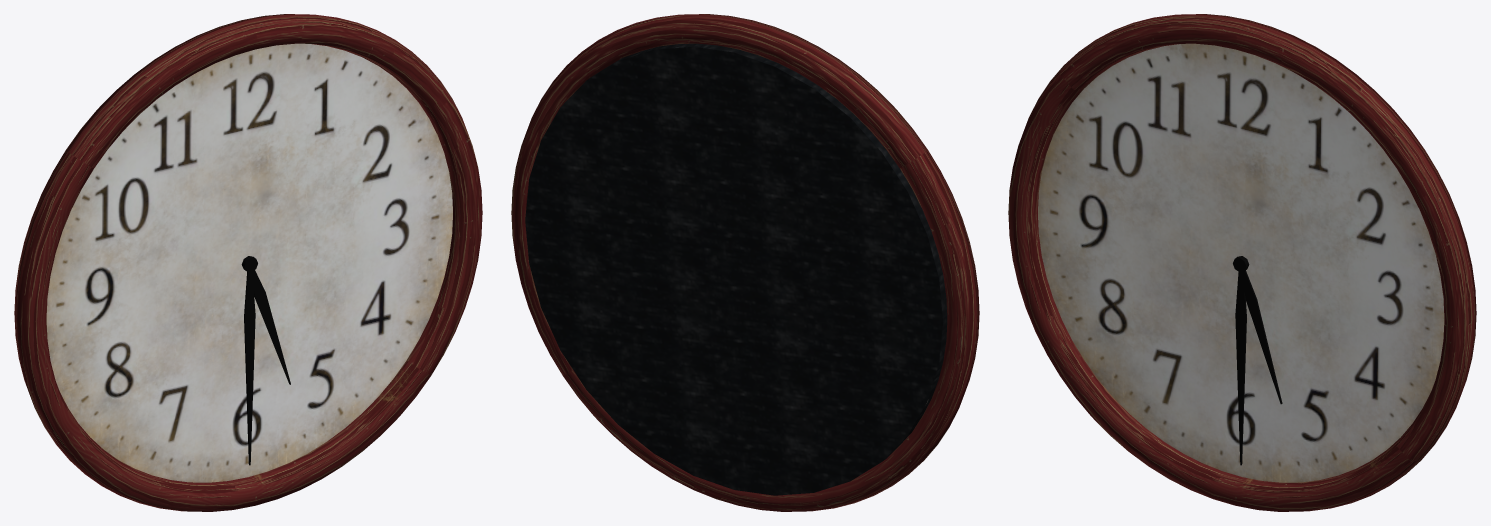
Rendered from clock_1730.fbx.
3 renders of one model, left to right at view 1: azimuth 30°, elevation 25°; view 2: azimuth 150°, elevation 25°; view 3: azimuth 330°, elevation 25°, orthographic.
Parts seen in each view (by area): view 1: clock, minute_hand, hour_hand; view 2: clock; view 3: clock, minute_hand, hour_hand.
Part boxes in pixels (<box>): clock: <box>14,14,482,511</box>; minute_hand: <box>244,271,255,465</box>; hour_hand: <box>250,270,290,384</box>; clock: <box>511,14,979,511</box>; clock: <box>1008,14,1476,511</box>; minute_hand: <box>1235,272,1246,465</box>; hour_hand: <box>1240,270,1282,404</box>.
Bounding box in the file's own units: 0.4471 × 0.0308 × 0.4471.
Materials: 1 (1 with a texture image).
